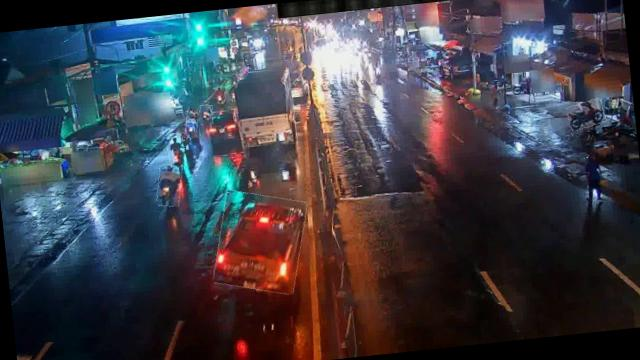Bike: (566, 99, 606, 130), (156, 164, 184, 207), (166, 136, 186, 168), (183, 112, 200, 138), (199, 104, 214, 125), (212, 88, 226, 106)
Car: (209, 187, 311, 298), (198, 109, 243, 157)
Truck: (235, 69, 298, 149)
